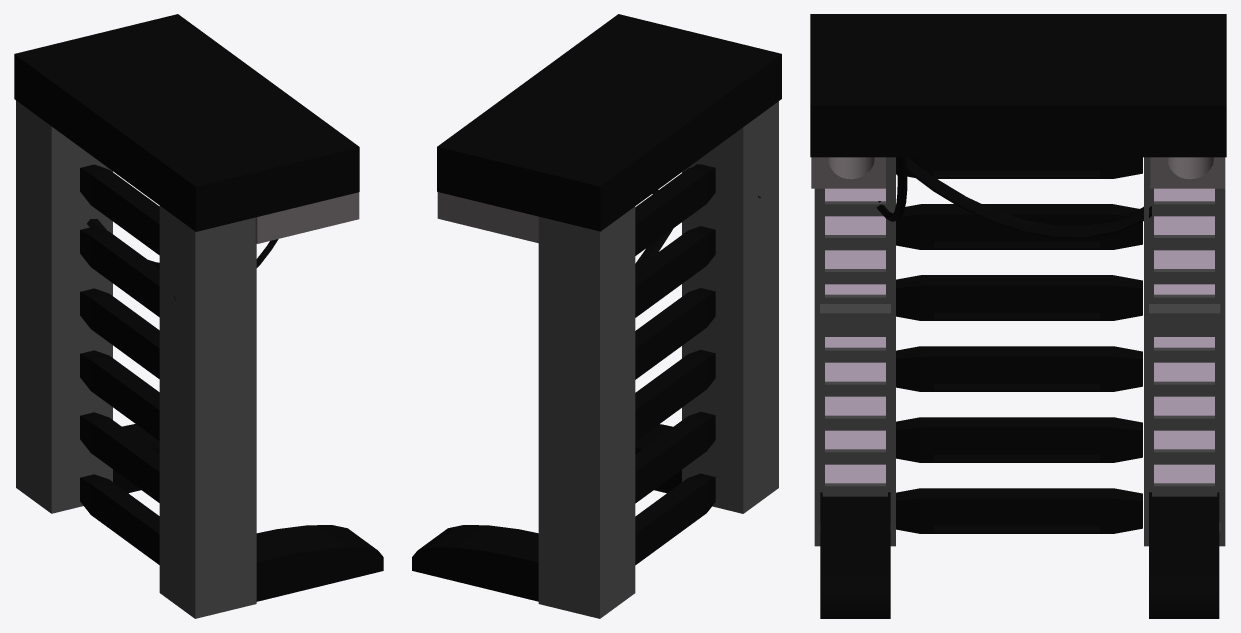
3 renders of one model, left to right at view 1: azimuth 30°, elevation 25°; view 2: azimuth 150°, elevation 25°; view 3: azimuth 270°, elevation 25°, orthographic. The views are drawn at different scales.
Parts seen in each view (by area): view 1: Cube.045; view 2: Cube.045; view 3: Cube.045.
Boxes of the visible parts, bbox=[...] form: Cube.045: bbox=[14, 14, 383, 618]; Cube.045: bbox=[412, 14, 781, 618]; Cube.045: bbox=[810, 14, 1226, 618].
Bounding box in the file's own units: 208 × 448 × 340.
